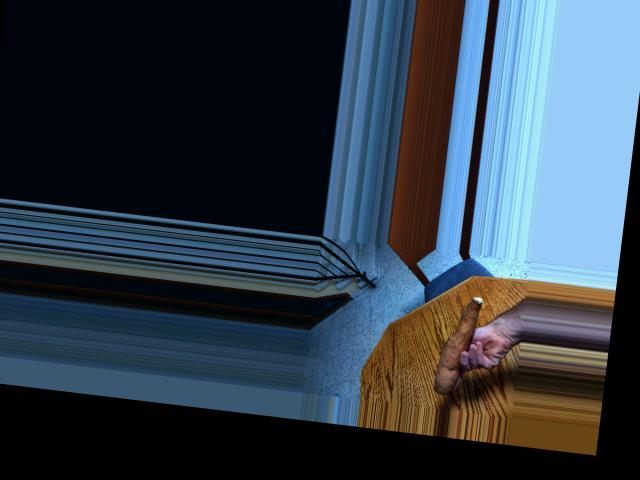sweet_potato: (426, 289, 484, 395)
